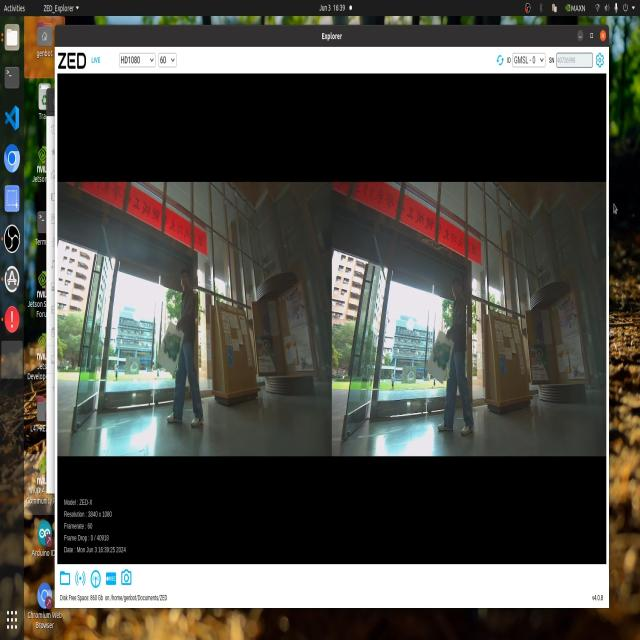green: (159, 324, 181, 362), (432, 334, 451, 371)
